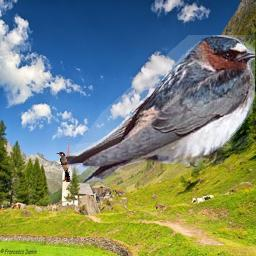Cuckoo: (56, 152, 71, 182)
Swallow: (67, 35, 255, 186)
